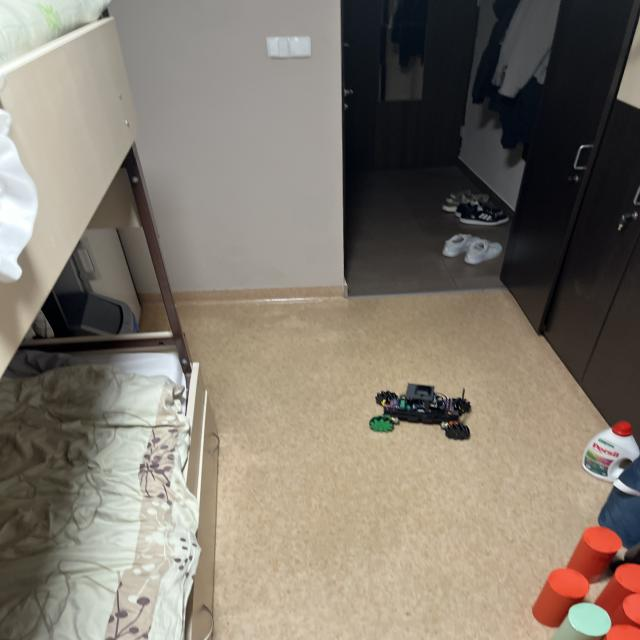robot: (370, 384, 471, 440)
